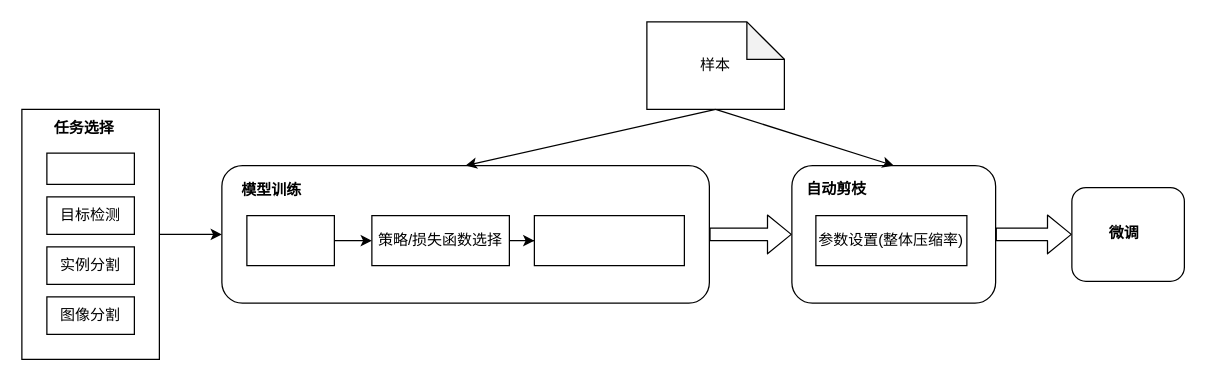
Some shapes in this 1206 by 381 pixel diagram are drawn without their labels. Each missing label, with the centre of its shape:
"图像分类" belongs at point (90, 168).
"模型搭建" belongs at point (290, 240).
"算法/优化器参数设置" belongs at point (608, 240).
